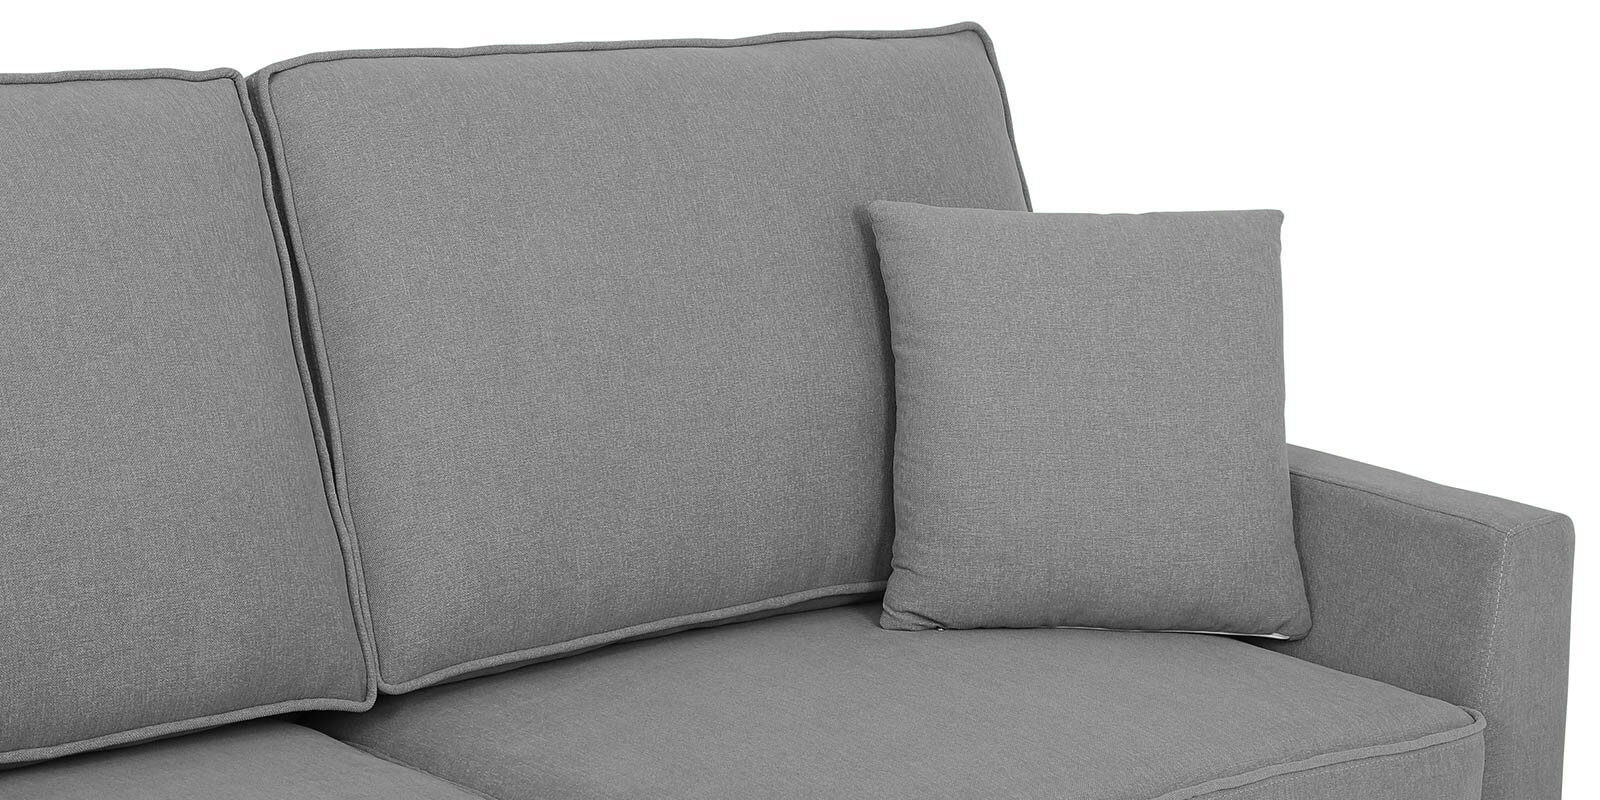Diego Three Seater Sofa in Ash Grey Colour by CasaCraft: (11, 36, 1553, 789)
